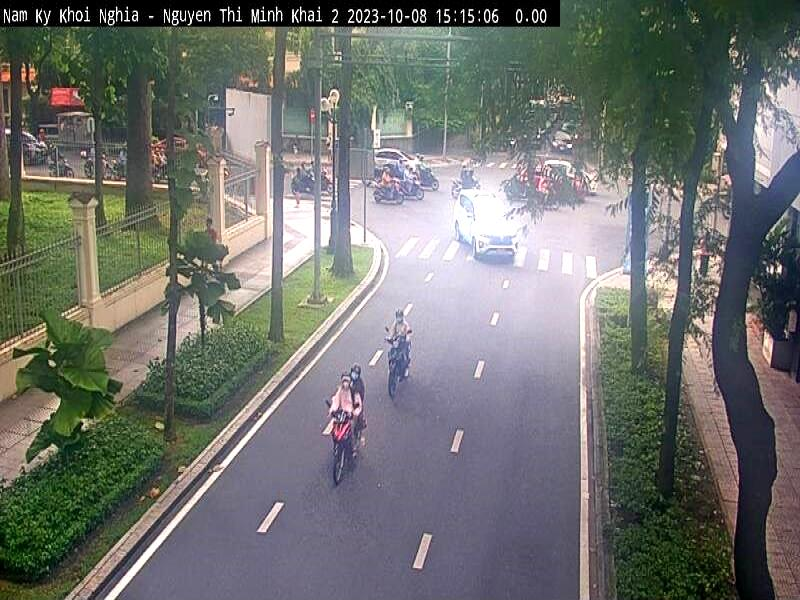car: (452, 190, 520, 261)
motorcycle: (326, 406, 356, 487)
